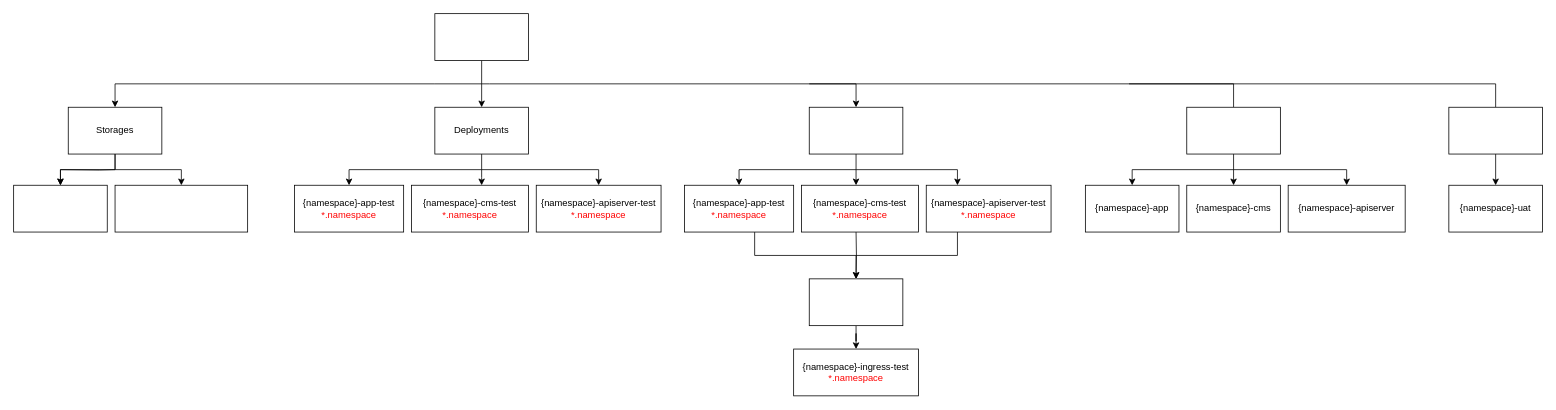
Some shapes in this 1556 by 410 pixel diagram are drawn without their labels. Each missing label, with the centre of its shape:
"Cluster (cluster-test)" goes at point 481,36.
"Container Register Images" goes at point 1233,130.
"Ingress" goes at point 855,302.
"Persistent volume claim (volumeclaim-test) *.namespace" goes at point 181,208.
"Services" goes at point 855,130.
"SQL Instance (abcposdb)" goes at point 1495,130.
"Storage Class (standard)" goes at point 60,208.
